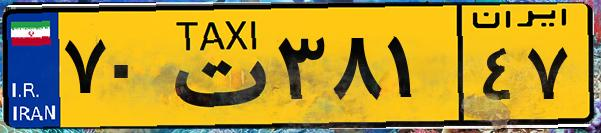0: (110, 28, 158, 98)
1: (385, 28, 445, 110)
3: (270, 28, 330, 110)
4: (475, 38, 525, 113)
7: (57, 26, 110, 100), (525, 38, 570, 115)
8: (330, 28, 385, 110)
ت: (158, 12, 270, 120)
